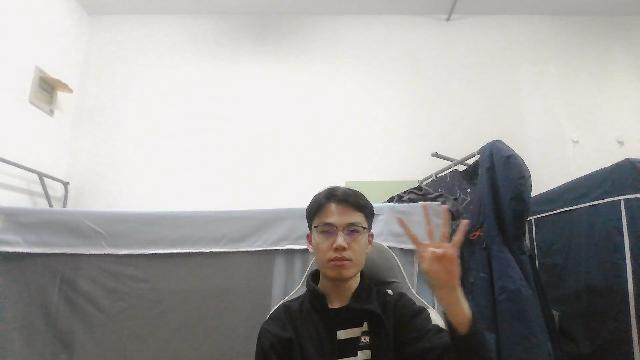four: (396, 201, 469, 302)
